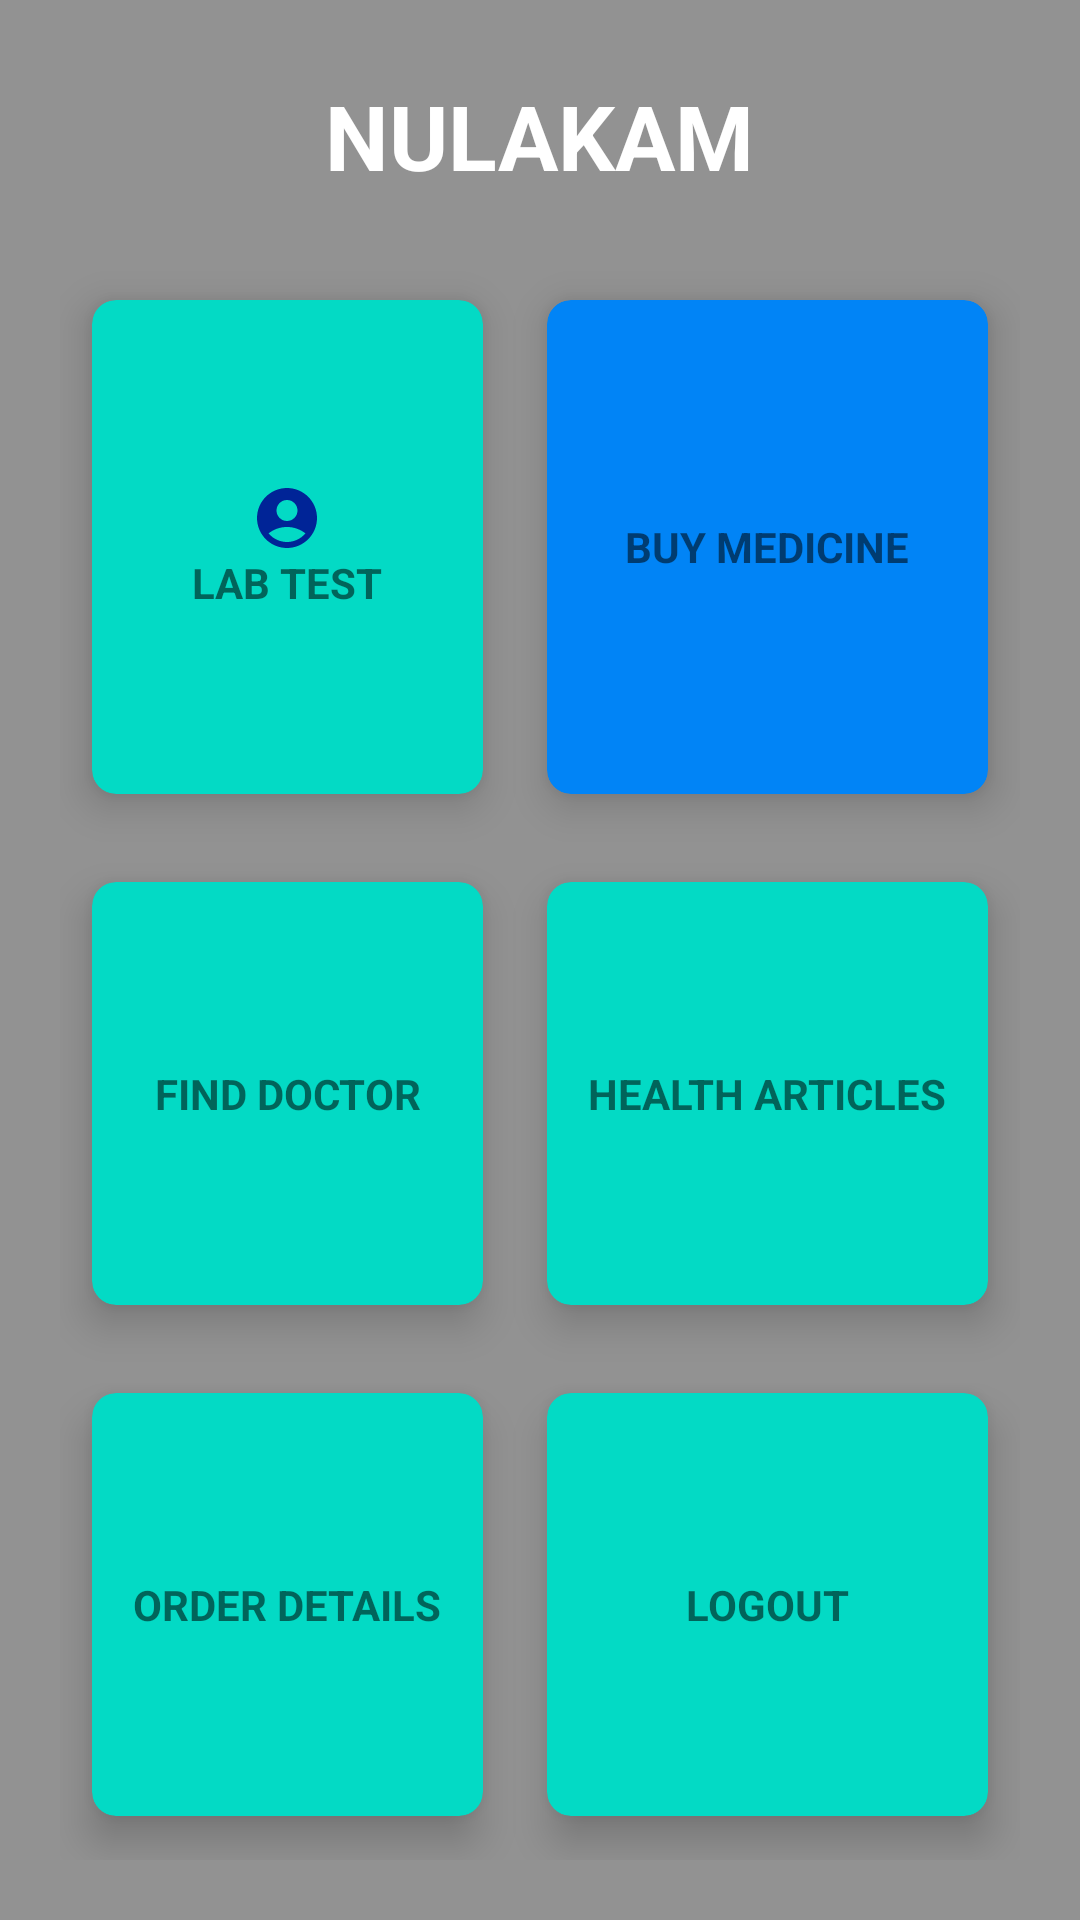

Screen size 1080 x 1920. Icon name, then its box in pixels as (x1, y1, x2, y2):
account circle: (257, 488, 317, 548)
